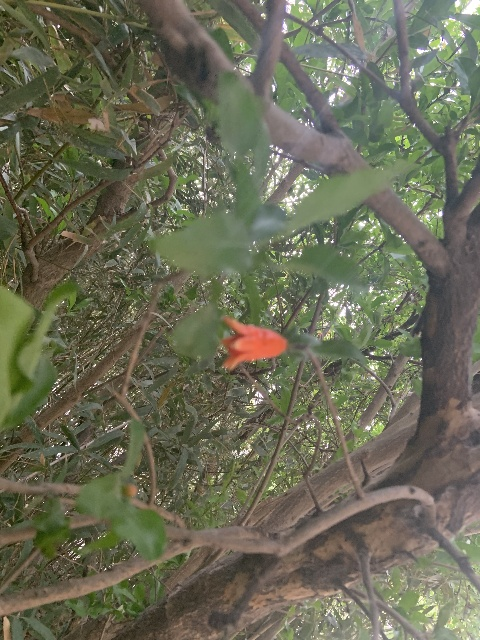flower: (220, 316, 287, 371)
